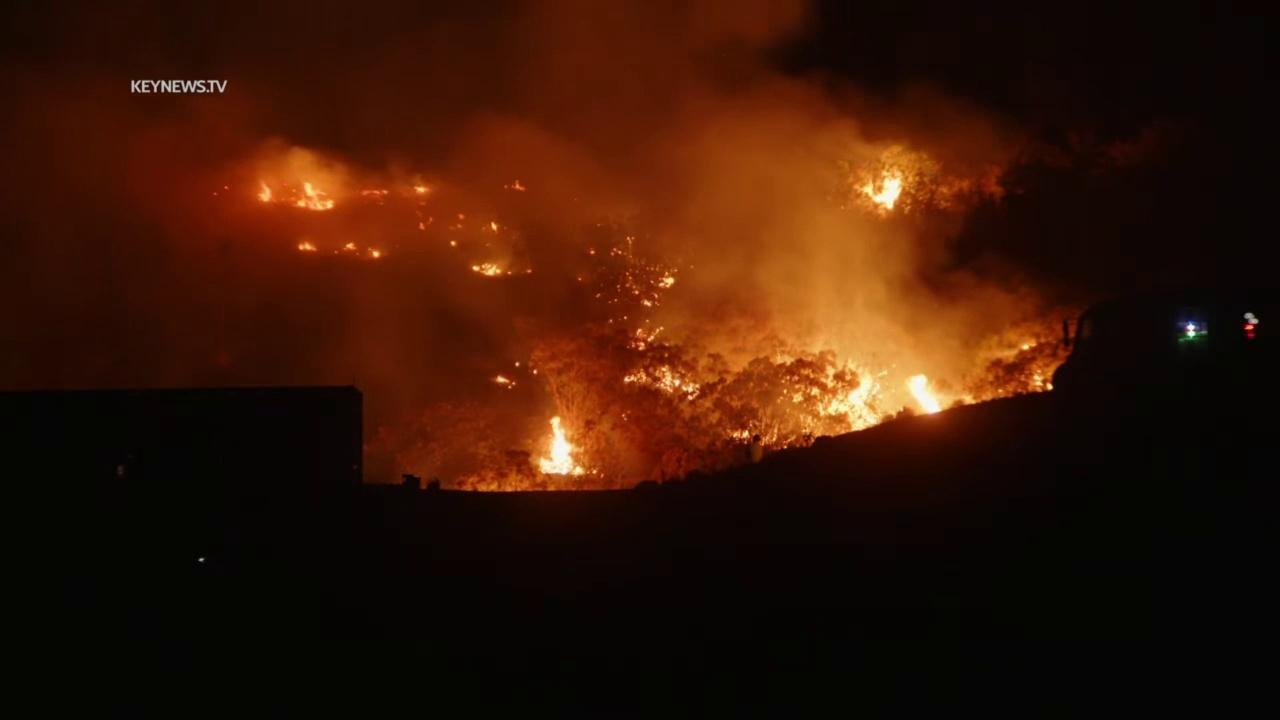fire: (809, 357, 893, 433), (535, 414, 599, 476), (625, 362, 702, 402), (853, 173, 906, 212), (903, 372, 946, 416), (294, 181, 335, 211), (625, 325, 667, 351), (728, 419, 754, 445), (1030, 368, 1054, 393), (470, 261, 503, 277), (256, 176, 274, 203), (493, 374, 516, 389), (657, 271, 677, 288), (295, 239, 320, 252), (359, 188, 391, 196), (510, 178, 526, 192), (368, 247, 383, 260), (412, 184, 431, 194), (1021, 342, 1038, 352), (342, 241, 357, 251), (490, 220, 499, 233), (639, 299, 653, 307), (418, 219, 426, 232), (458, 212, 466, 221), (449, 240, 458, 247), (515, 361, 521, 368), (526, 269, 533, 275), (533, 369, 538, 375), (590, 249, 595, 255), (578, 276, 583, 280), (507, 271, 512, 274)
smoke: (0, 0, 1098, 496)
